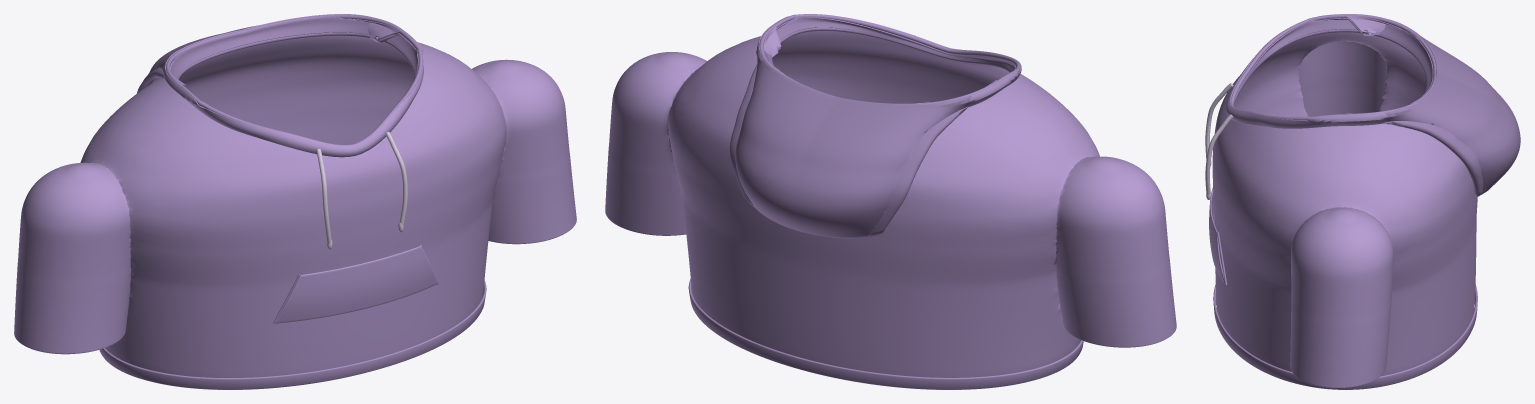
File: Masculine-sweatshirt-top.glb
3 renders of one model, left to right at view 1: azimuth 30°, elevation 25°; view 2: azimuth 150°, elevation 25°; view 3: azimuth 270°, elevation 25°, orthographic. The views are drawn at different scales.
Visible parts, largest first — view 1: Clothing / joined sweatshirt186, Hoodie / attached opening, Hoodie / kangaroo pocket, Hoodie / ribbed hem, Hoodie / rolled opening export, Hoodie / resting hood, Neckline / fitted crew export, Hoodie / drawcord 1 export, Hoodie / drawcord -1 export; view 2: Clothing / joined sweatshirt186, Hoodie / resting hood, Hoodie / ribbed hem, Hoodie / attached opening, Hoodie / rolled opening export, Neckline / fitted crew export; view 3: Clothing / joined sweatshirt186, Hoodie / resting hood, Hoodie / attached opening, Hoodie / ribbed hem, Hoodie / rolled opening export, Hoodie / kangaroo pocket, Neckline / fitted crew export, Hoodie / drawcord 1 export, Hoodie / drawcord -1 export.
Part boxes in pixels (x1=…): Clothing / joined sweatshirt186: x1=14, y1=36, x2=576, y2=377; Hoodie / attached opening: x1=163, y1=16, x2=423, y2=157; Hoodie / kangaroo pocket: x1=275, y1=246, x2=437, y2=323; Hoodie / ribbed hem: x1=99, y1=280, x2=486, y2=389; Hoodie / rolled opening export: x1=166, y1=14, x2=423, y2=145; Hoodie / resting hood: x1=137, y1=14, x2=399, y2=93; Neckline / fitted crew export: x1=178, y1=32, x2=414, y2=79; Hoodie / drawcord 1 export: x1=385, y1=132, x2=407, y2=225; Hoodie / drawcord -1 export: x1=316, y1=149, x2=331, y2=243; Clothing / joined sweatshirt186: x1=605, y1=31, x2=1176, y2=377; Hoodie / resting hood: x1=729, y1=26, x2=996, y2=238; Hoodie / ribbed hem: x1=688, y1=279, x2=1083, y2=389; Hoodie / attached opening: x1=757, y1=16, x2=1021, y2=107; Hoodie / rolled opening export: x1=759, y1=14, x2=1020, y2=104; Neckline / fitted crew export: x1=772, y1=27, x2=1010, y2=72; Clothing / joined sweatshirt186: x1=1212, y1=32, x2=1477, y2=387; Hoodie / resting hood: x1=1346, y1=16, x2=1520, y2=196; Hoodie / attached opening: x1=1226, y1=14, x2=1433, y2=128; Hoodie / ribbed hem: x1=1213, y1=284, x2=1477, y2=389; Hoodie / rolled opening export: x1=1230, y1=14, x2=1436, y2=120; Hoodie / kangaroo pocket: x1=1209, y1=187, x2=1224, y2=283; Neckline / fitted crew export: x1=1234, y1=29, x2=1426, y2=103; Hoodie / drawcord 1 export: x1=1205, y1=114, x2=1233, y2=194; Hoodie / drawcord -1 export: x1=1205, y1=83, x2=1233, y2=159.
Size of the model in its own units: 1.03 by 0.479 by 0.5553.
